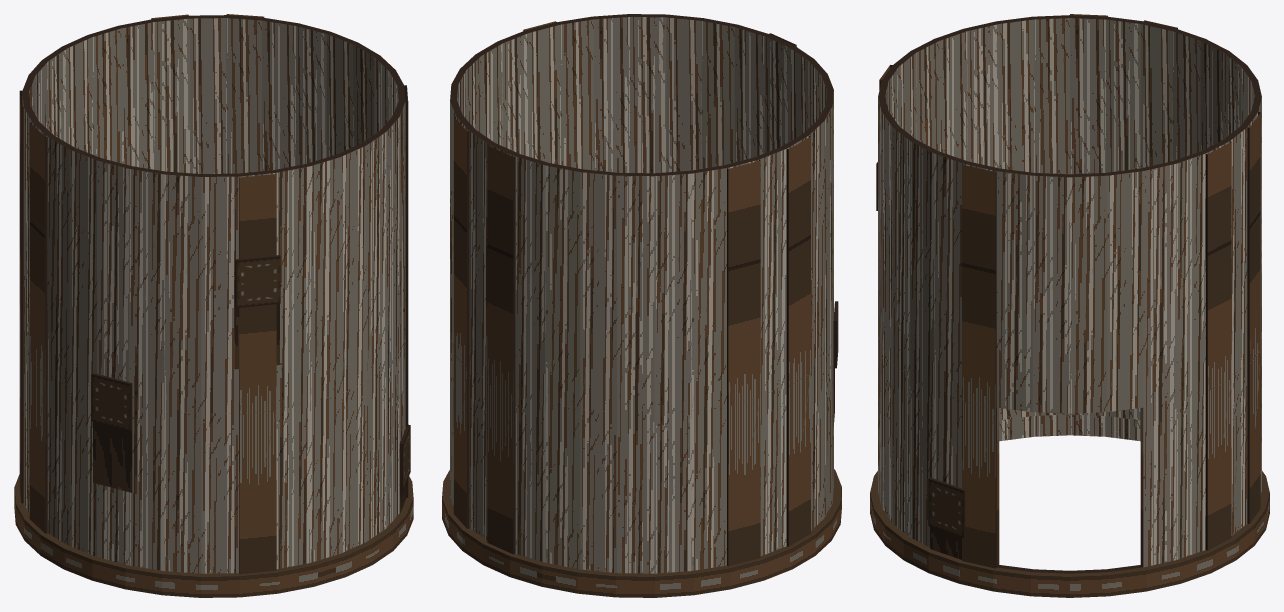
File: TOR-01_Fuste_de_torre_a_porton.gltf
The picture shows the model from 3 angles, left to right: view 1: azimuth 30°, elevation 25°; view 2: azimuth 150°, elevation 25°; view 3: azimuth 270°, elevation 25°; orthographic projection.
Parts seen in each view (by area): view 1: TOR-01_Fuste_de_torre_a_porton-col; view 2: TOR-01_Fuste_de_torre_a_porton-col; view 3: TOR-01_Fuste_de_torre_a_porton-col.
Part boxes in pixels (left/top/right/bottom): TOR-01_Fuste_de_torre_a_porton-col: left=14, top=14, right=413, bottom=597; TOR-01_Fuste_de_torre_a_porton-col: left=442, top=14, right=841, bottom=597; TOR-01_Fuste_de_torre_a_porton-col: left=870, top=14, right=1269, bottom=597.
Bounding box in the file's own units: 5.21 × 6 × 5.21.
1 material, 1 textured.
